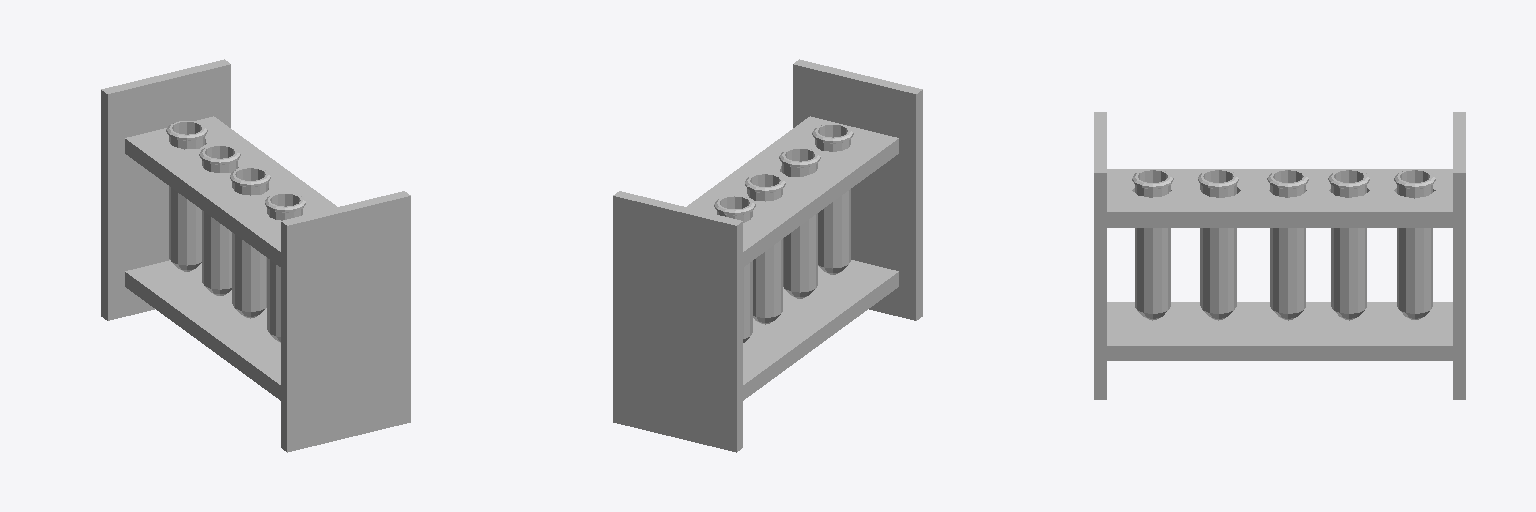
Rendered from TecttubeBlock.obj.
The picture shows the model from 3 angles: view 1: azimuth 30°, elevation 25°; view 2: azimuth 150°, elevation 25°; view 3: azimuth 270°, elevation 25°; orthographic projection.
Parts seen in each view (by area): view 1: TestTubeBlock pCube23, pCube24 TestTubeBlock, TestTubeBlock pCube22, TestTubeBlock pCube21, TestTubeBlock Testtube3, TestTubeBlock Testtube1, TestTubeBlock Testtube2, TestTubeBlock Testtube4; view 2: pCube24 TestTubeBlock, TestTubeBlock pCube23, TestTubeBlock pCube22, TestTubeBlock pCube21, TestTubeBlock Testtube4, TestTubeBlock Testtube5, TestTubeBlock Testtube3, TestTubeBlock Testtube2; view 3: TestTubeBlock pCube21, TestTubeBlock pCube22, TestTubeBlock Testtube4, TestTubeBlock Testtube1, TestTubeBlock Testtube2, TestTubeBlock Testtube5, TestTubeBlock Testtube3, pCube24 TestTubeBlock, TestTubeBlock pCube23.
Part boxes in pixels (x1,y1,x2,y2): TestTubeBlock pCube23: (281,191,410,452); pCube24 TestTubeBlock: (101,59,230,320); TestTubeBlock pCube22: (125,116,336,266); TestTubeBlock pCube21: (125,260,280,400); TestTubeBlock Testtube3: (230,167,270,318); TestTubeBlock Testtube1: (166,121,207,271); TestTubeBlock Testtube2: (199,145,240,295); TestTubeBlock Testtube4: (265,193,305,342); pCube24 TestTubeBlock: (613,191,742,452); TestTubeBlock pCube23: (793,59,922,320); TestTubeBlock pCube22: (687,116,898,266); TestTubeBlock pCube21: (743,260,898,400); TestTubeBlock Testtube4: (779,148,820,298); TestTubeBlock Testtube5: (812,124,853,274); TestTubeBlock Testtube3: (745,173,785,324); TestTubeBlock Testtube2: (714,195,755,342); TestTubeBlock pCube21: (1107,302,1452,360); TestTubeBlock pCube22: (1107,169,1452,227); TestTubeBlock Testtube4: (1198,169,1238,320); TestTubeBlock Testtube1: (1394,169,1435,319); TestTubeBlock Testtube2: (1328,169,1369,320); TestTubeBlock Testtube5: (1132,169,1173,320); TestTubeBlock Testtube3: (1267,169,1308,320); pCube24 TestTubeBlock: (1453,112,1465,399); TestTubeBlock pCube23: (1094,112,1106,399).
Bounding box in the file's own units: 0.5714 × 1 × 1.49.